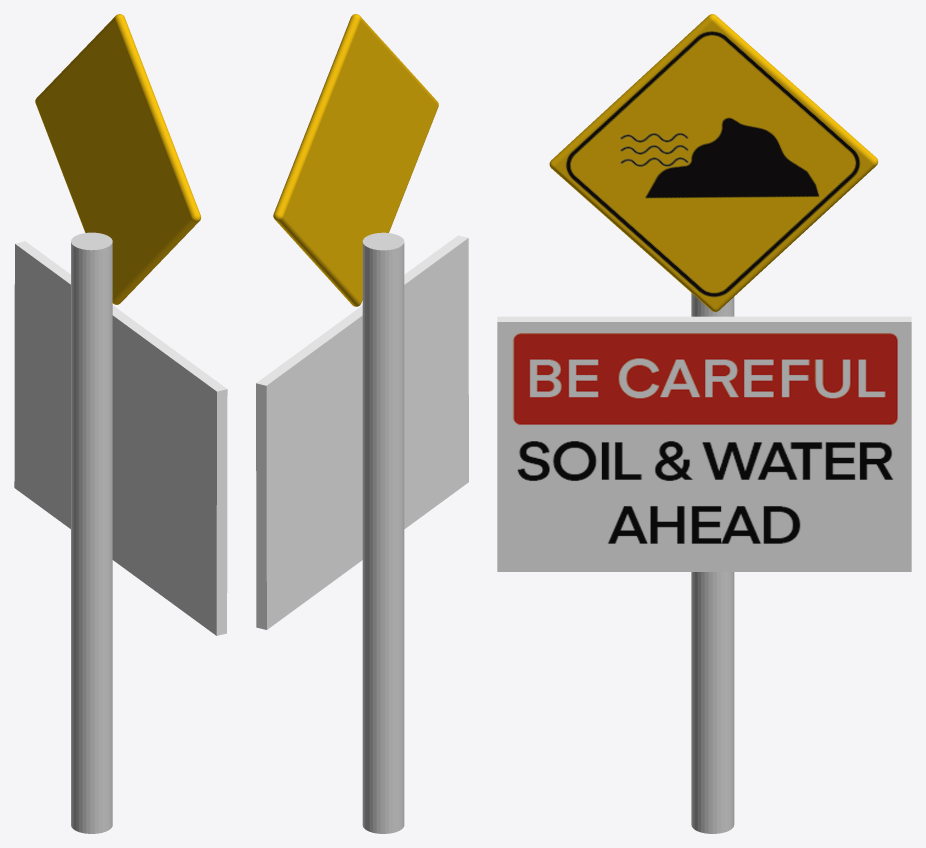
Rendered from signT.fbx.
3 views of the same model, side by side, from view 1: azimuth 30°, elevation 25°; view 2: azimuth 150°, elevation 25°; view 3: azimuth 270°, elevation 25° (orthographic). The views are drawn at different scales.
Visible parts, largest first — view 1: Cube, Cylinder, Plane; view 2: Cube, Cylinder, Plane; view 3: Cube, Plane, Cylinder.
Boxes of the visible parts, x1=… form: Cube: x1=14, y1=241, x2=227, y2=635; Cylinder: x1=71, y1=232, x2=112, y2=833; Plane: x1=35, y1=14, x2=201, y2=304; Cube: x1=256, y1=235, x2=468, y2=629; Cylinder: x1=362, y1=232, x2=404, y2=833; Plane: x1=273, y1=14, x2=438, y2=306; Cube: x1=497, y1=316, x2=911, y2=571; Plane: x1=549, y1=14, x2=878, y2=311; Cylinder: x1=691, y1=293, x2=734, y2=833.
Size of the model in its own units: 27.49 by 418 by 190.
2 materials, 2 textured.
